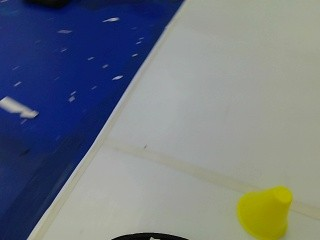cone: (234, 181, 295, 238)
